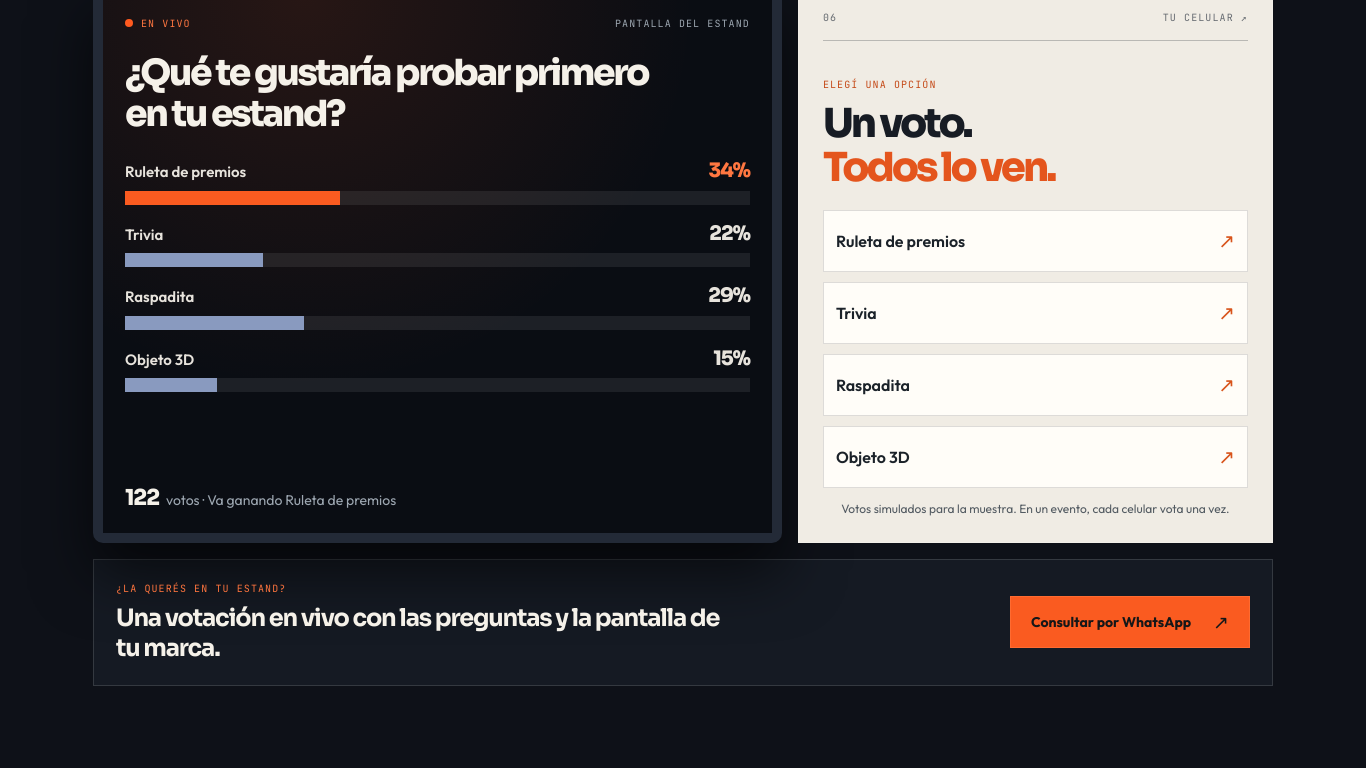
it: demo de experiencias › suma el voto y sigue recibiendo votos en vivo
This screenshot has width=1366, height=768.
(page scrolled)
Expected: the text "122" is shown, [125, 484, 159, 511]
Click the button "Raspadita ↗".
click(873, 385)  # box [823, 354, 1248, 416]
Wait 4200 ms
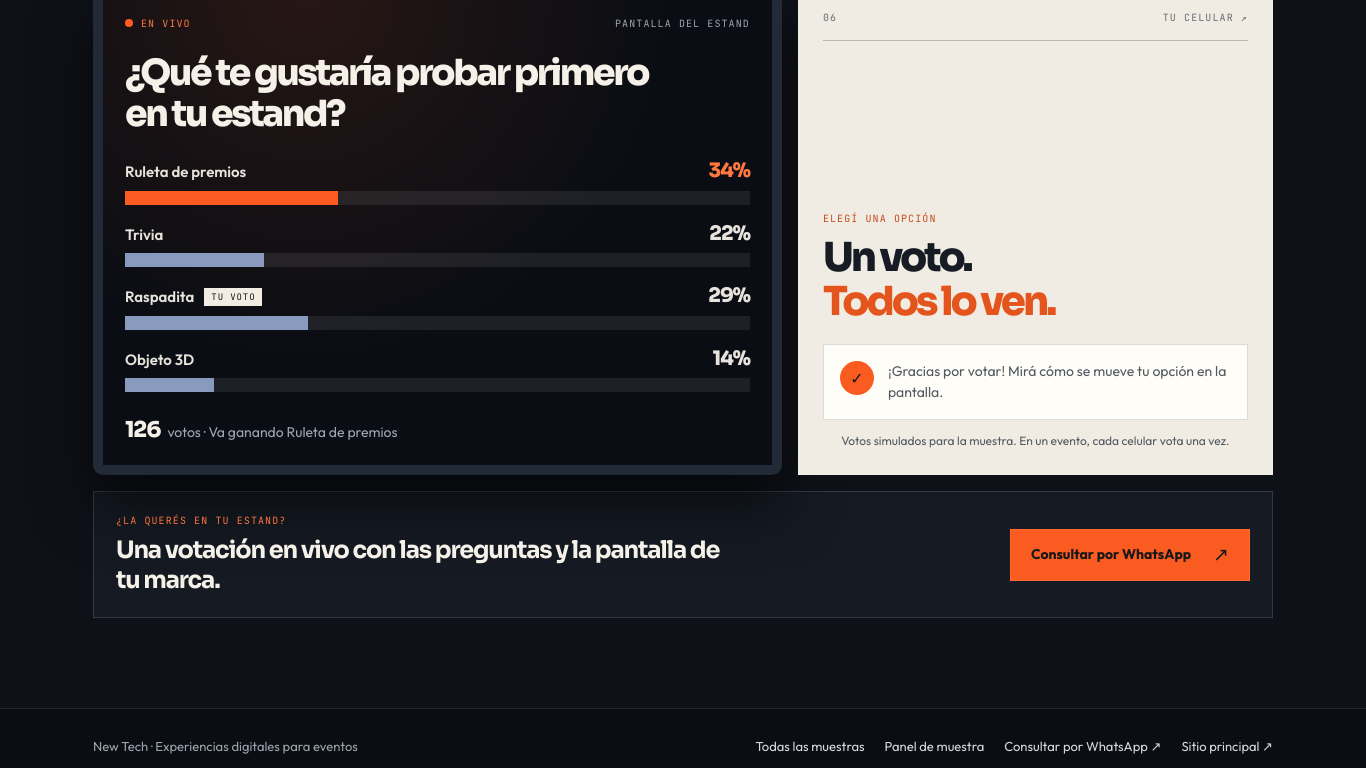
Expected: the text "Gracias por votar" is shown, [888, 362, 1226, 401]
Expected: the text "TU VOTO" is shown, [204, 288, 262, 306]
Expected: the text "126" is shown, [125, 416, 160, 443]
